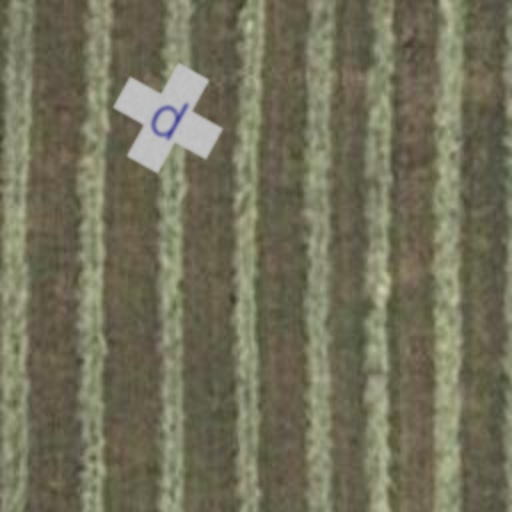cross: (94, 44, 242, 192)
